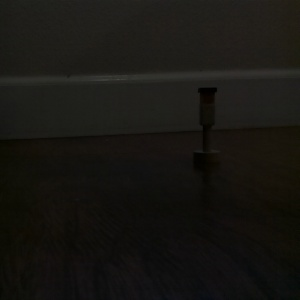traffic light red: (192, 84, 221, 165)
